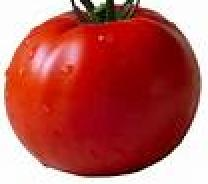tomato: (5, 4, 200, 177)
